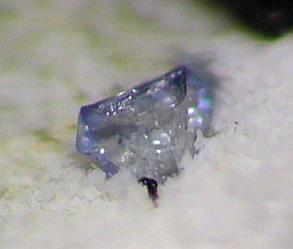benitoite: (77, 66, 212, 184)
